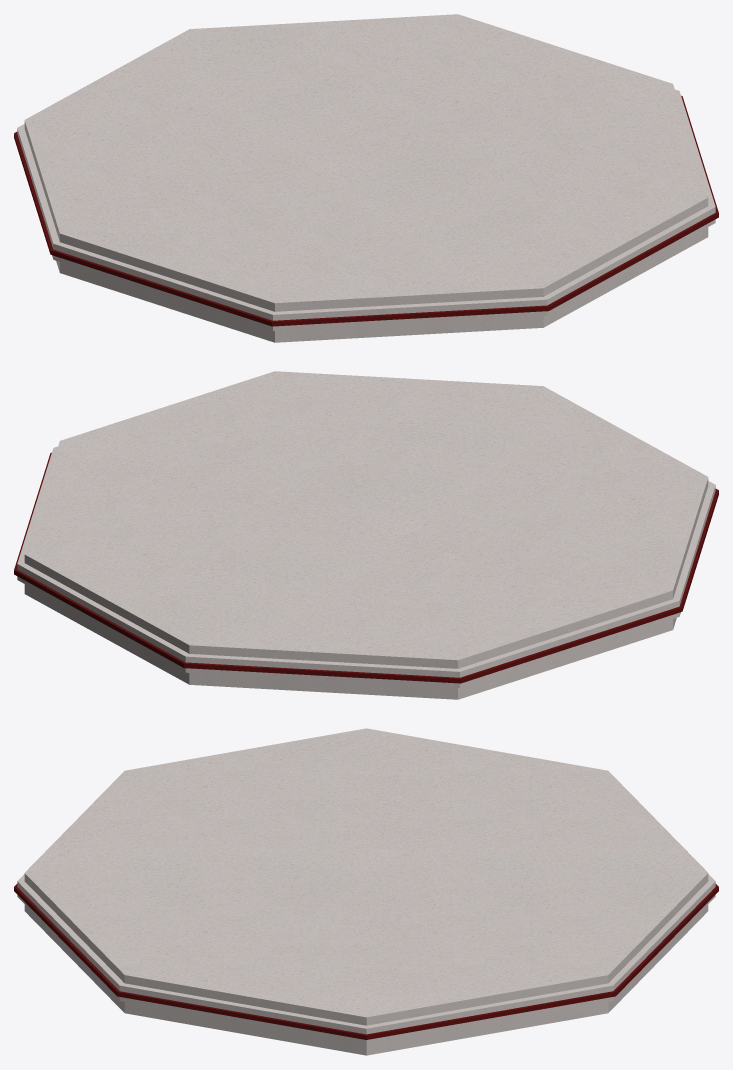
The model's file is techo.obj.
3 renders of one model, top to bottom at view 1: azimuth 30°, elevation 25°; view 2: azimuth 150°, elevation 25°; view 3: azimuth 270°, elevation 25°, orthographic. The views are drawn at different scales.
Visible parts, largest first — view 1: techo; view 2: techo; view 3: techo.
Boxes of the visible parts, box(x1,y1,x2,y2) form: techo: box(14, 14, 718, 342); techo: box(14, 371, 718, 699); techo: box(14, 728, 718, 1055).
Size of the model in its own units: 26.97 by 1.61 by 26.97.
Materials: 2 (2 with a texture image).
